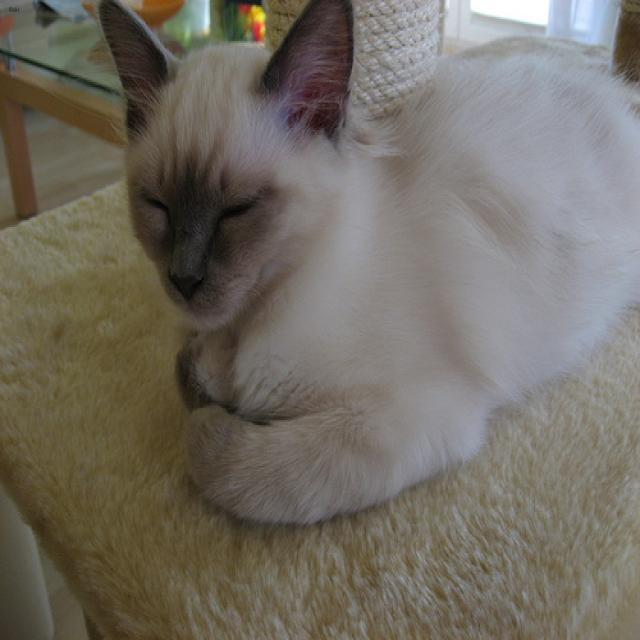Birman: (93, 0, 358, 335)
